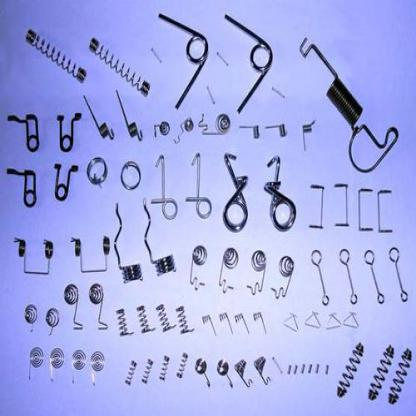FOD: (296, 34, 400, 175), (89, 34, 154, 96), (26, 28, 90, 85), (333, 343, 367, 403), (367, 343, 395, 403), (388, 345, 414, 405), (63, 282, 84, 332), (176, 304, 197, 337), (155, 301, 177, 332), (134, 304, 156, 334), (47, 346, 64, 384), (115, 307, 135, 338), (140, 356, 155, 386), (158, 353, 172, 384), (122, 358, 136, 388), (176, 351, 189, 381)
